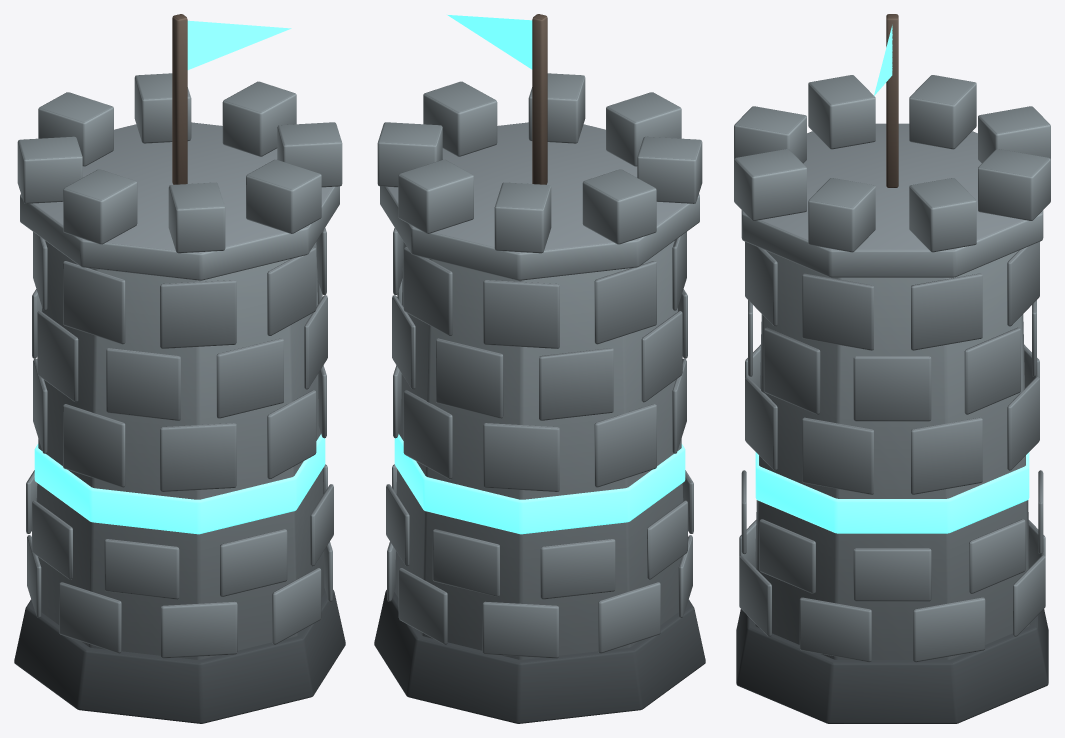
Rendered from castle_tower_a.glb.
3 renders of one model, left to right at view 1: azimuth 30°, elevation 25°; view 2: azimuth 150°, elevation 25°; view 3: azimuth 270°, elevation 25°, orthographic.
Visible parts, largest first — view 1: castle_tower_a; view 2: castle_tower_a; view 3: castle_tower_a.
Part boxes in pixels (x1,y1,x2,y2): castle_tower_a: [14, 14, 345, 723]; castle_tower_a: [374, 14, 705, 723]; castle_tower_a: [734, 14, 1050, 723].
Bounding box in the file's own units: 2.52 × 5.65 × 2.52.
Materials: 2 (1 with a texture image).
